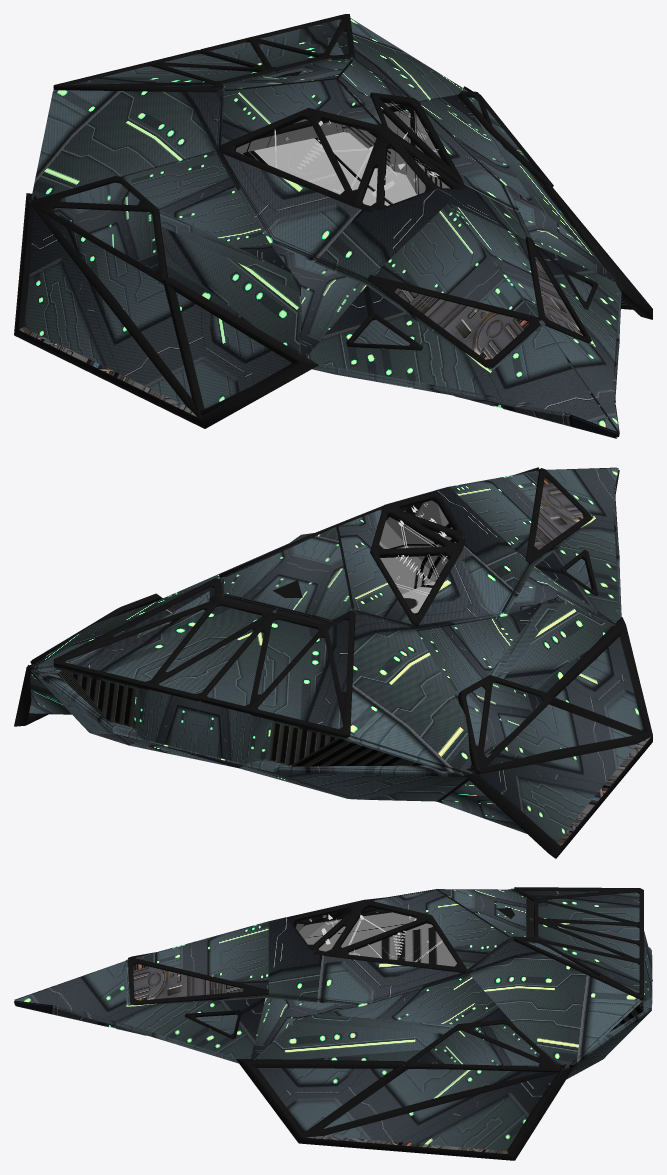
Rendered from Ship 1.fbx.
3 renders of one model, top to bottom at view 1: azimuth 30°, elevation 25°; view 2: azimuth 150°, elevation 25°; view 3: azimuth 270°, elevation 25°, orthographic. The views are drawn at different scales.
Parts seen in each view (by area): view 1: black_diamond_chasis_Cone, black_diamond_chasis_Cone.006, wing_doors.001_Cone.007, black_diamond_chasis_Cone.003, black_diamond_chasis.003_Cone.013, black_diamond_chasis.005_Cone.015, wing_doors_Cone.005, black_diamond_chasis_Cone.009, black_diamond_chasis_Cone.007, black_diamond_chasis_Cone.012, beamer caps; view 2: black_diamond_chasis_Cone, black_diamond_chasis_Cone.006, black_diamond_chasis_Cone.003, black_diamond_chasis.005_Cone.015, wing_doors.001_Cone.007, black_diamond_chasis.003_Cone.013, black_diamond_chasis_Cone.012, black_diamond_chasis_Cone.007, black_diamond_chasis_Cone.009, beamer caps; view 3: black_diamond_chasis_Cone, black_diamond_chasis_Cone.007, wing_doors_Cone.005, black_diamond_chasis_Cone.003, black_diamond_chasis.005_Cone.015, black_diamond_chasis.003_Cone.013, black_diamond_chasis_Cone.012, black_diamond_chasis_Cone.009, beamer caps.
Boxes of the visible parts, x1,y1,x2,y2 form: black_diamond_chasis_Cone: [29, 18, 621, 438]; black_diamond_chasis_Cone.006: [14, 176, 318, 428]; wing_doors.001_Cone.007: [122, 152, 300, 353]; black_diamond_chasis_Cone.003: [53, 14, 355, 92]; black_diamond_chasis.003_Cone.013: [219, 92, 465, 212]; black_diamond_chasis.005_Cone.015: [220, 59, 415, 166]; wing_doors_Cone.005: [419, 95, 603, 266]; black_diamond_chasis_Cone.009: [367, 236, 591, 367]; black_diamond_chasis_Cone.007: [458, 86, 652, 319]; black_diamond_chasis_Cone.012: [216, 102, 450, 298]; beamer caps: [346, 267, 598, 350]; black_diamond_chasis_Cone: [31, 467, 621, 801]; black_diamond_chasis_Cone.006: [437, 617, 652, 858]; black_diamond_chasis_Cone.003: [53, 578, 355, 737]; black_diamond_chasis.005_Cone.015: [221, 508, 414, 626]; wing_doors.001_Cone.007: [417, 602, 611, 765]; black_diamond_chasis.003_Cone.013: [219, 490, 465, 626]; black_diamond_chasis_Cone.012: [379, 500, 456, 594]; black_diamond_chasis_Cone.007: [14, 593, 162, 726]; black_diamond_chasis_Cone.009: [515, 467, 591, 565]; beamer caps: [560, 550, 598, 595]; black_diamond_chasis_Cone: [14, 888, 652, 1079]; black_diamond_chasis_Cone.007: [236, 1019, 574, 1160]; wing_doors_Cone.005: [257, 975, 558, 1064]; black_diamond_chasis_Cone.003: [514, 887, 643, 1000]; black_diamond_chasis.005_Cone.015: [370, 889, 527, 972]; black_diamond_chasis.003_Cone.013: [287, 897, 466, 973]; black_diamond_chasis_Cone.012: [294, 912, 456, 1019]; black_diamond_chasis_Cone.009: [128, 952, 268, 1005]; beamer caps: [184, 1010, 241, 1039].
Bounding box in the file's own units: 176 × 70.73 × 238.
Materials: 7 (4 with a texture image).
